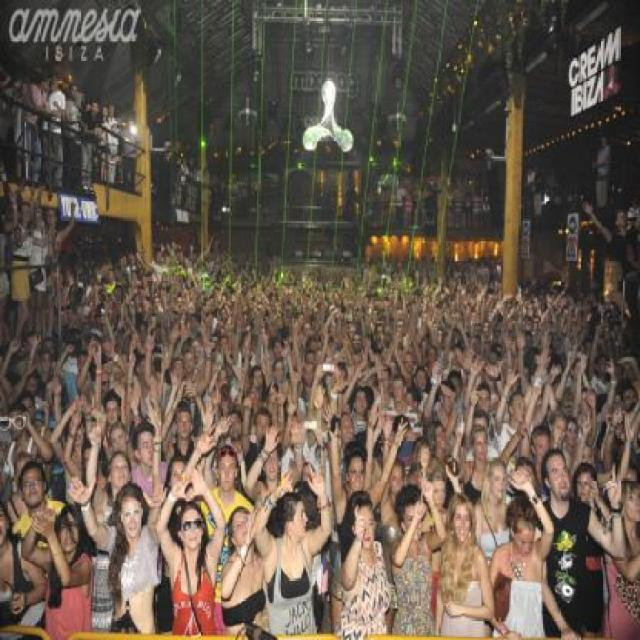Person: (0, 230, 638, 638), (0, 67, 142, 193), (0, 180, 75, 357), (364, 180, 478, 234), (572, 200, 633, 285), (174, 159, 240, 218), (592, 132, 610, 206)
